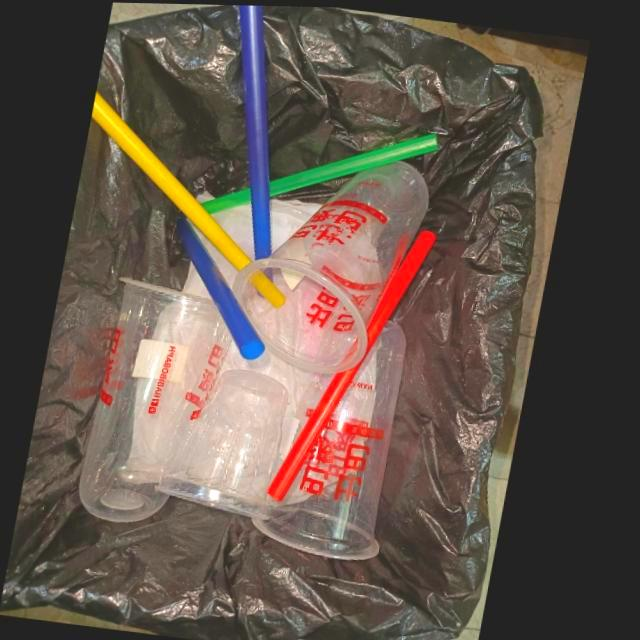plastic_container: (238, 157, 432, 371), (87, 275, 238, 521), (260, 317, 412, 557), (163, 368, 295, 517)
